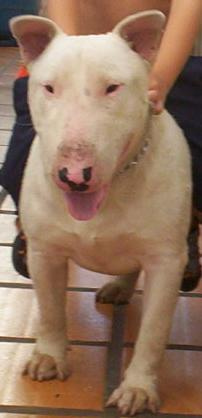dog: (8, 11, 193, 415)
